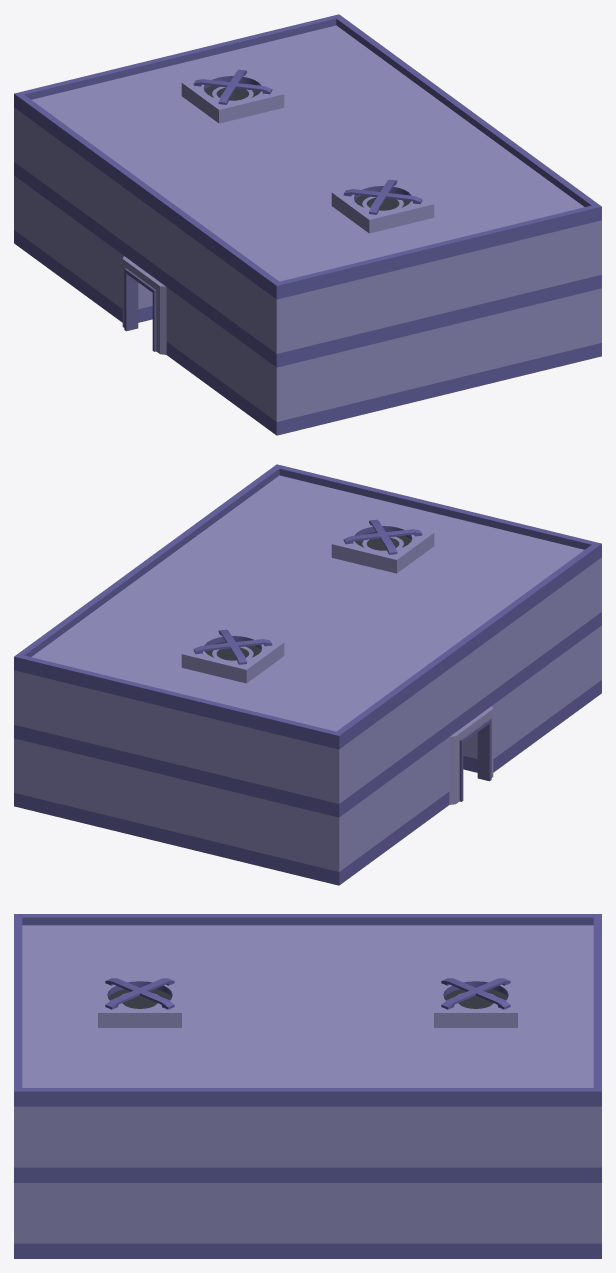
The model's file is ParkingGarage.glb.
The picture shows the model from 3 angles, top to bottom: view 1: azimuth 30°, elevation 25°; view 2: azimuth 150°, elevation 25°; view 3: azimuth 270°, elevation 25°; orthographic projection. The views are drawn at different scales.
Parts seen in each view (by area): view 1: mergedBlocks(Clone); view 2: mergedBlocks(Clone); view 3: mergedBlocks(Clone).
Part boxes in pixels (x1,y1,x2,y2): mergedBlocks(Clone): (14,14,601,435); mergedBlocks(Clone): (14,464,601,885); mergedBlocks(Clone): (14,914,601,1258).
Size of the model in its own units: 5.09 by 2.36 by 7.
